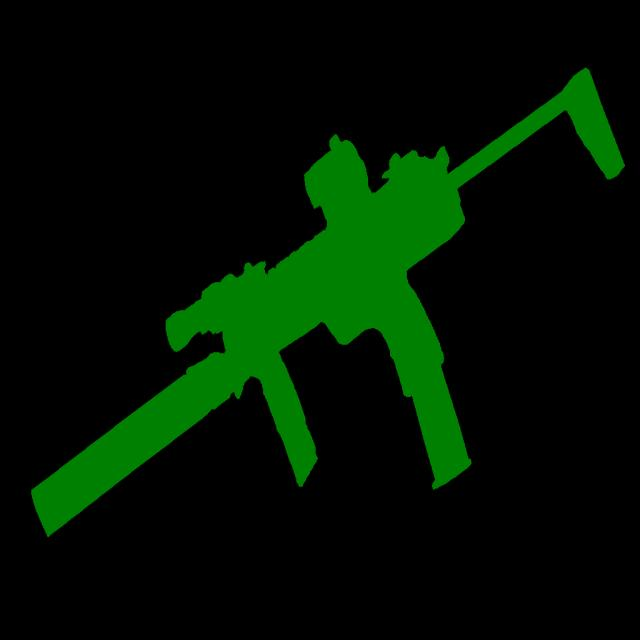firearm: (30, 64, 627, 540)
